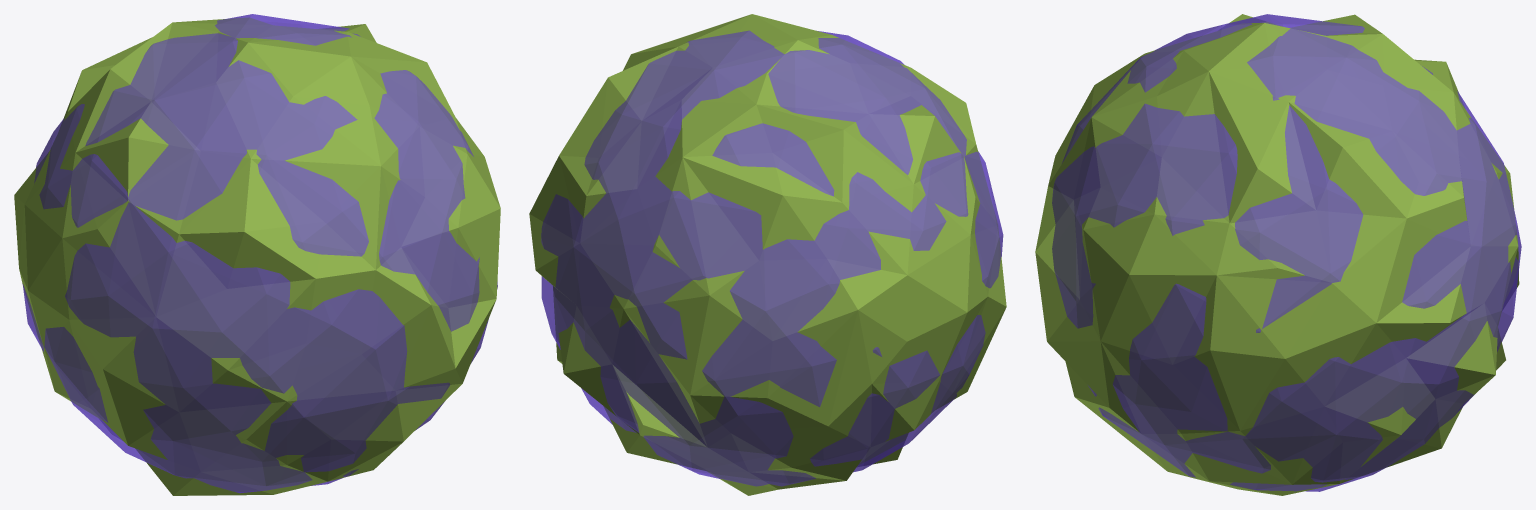
The model's file is earth_like_planet5.fbx.
The picture shows the model from 3 angles, left to right: view 1: azimuth 30°, elevation 25°; view 2: azimuth 150°, elevation 25°; view 3: azimuth 270°, elevation 25°; orthographic projection. The views are drawn at different scales.
Parts seen in each view (by area): view 1: earth_like_planet5; view 2: earth_like_planet5; view 3: earth_like_planet5.
Part boxes in pixels (x1=…): earth_like_planet5: x1=14, y1=14, x2=500, y2=495; earth_like_planet5: x1=529, y1=14, x2=1006, y2=495; earth_like_planet5: x1=1035, y1=14, x2=1521, y2=495.
Bounding box in the file's own units: 198 × 194 × 193.
